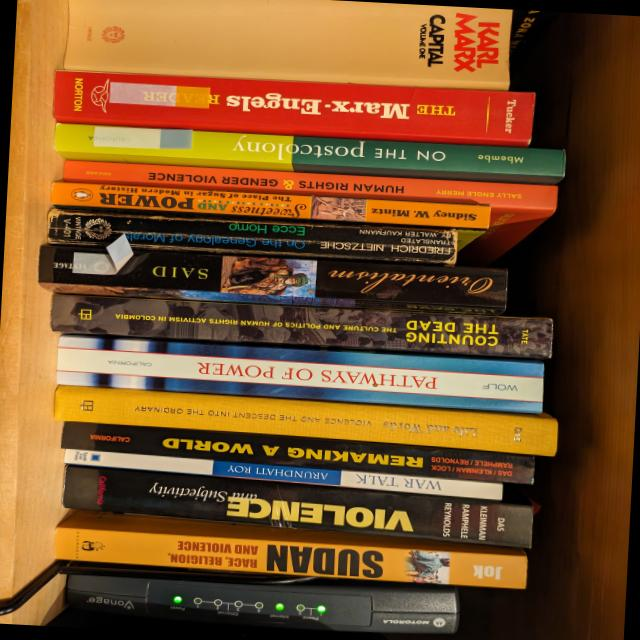book: (59, 160, 557, 270), (52, 508, 528, 599), (64, 0, 511, 91), (61, 464, 533, 549), (53, 69, 532, 147), (59, 384, 552, 454), (55, 292, 553, 359), (53, 123, 561, 185), (50, 244, 506, 309), (61, 422, 535, 482), (57, 347, 542, 400), (50, 182, 488, 232), (49, 209, 454, 263), (64, 452, 517, 499), (71, 333, 543, 377), (69, 371, 533, 413), (76, 283, 546, 319)
